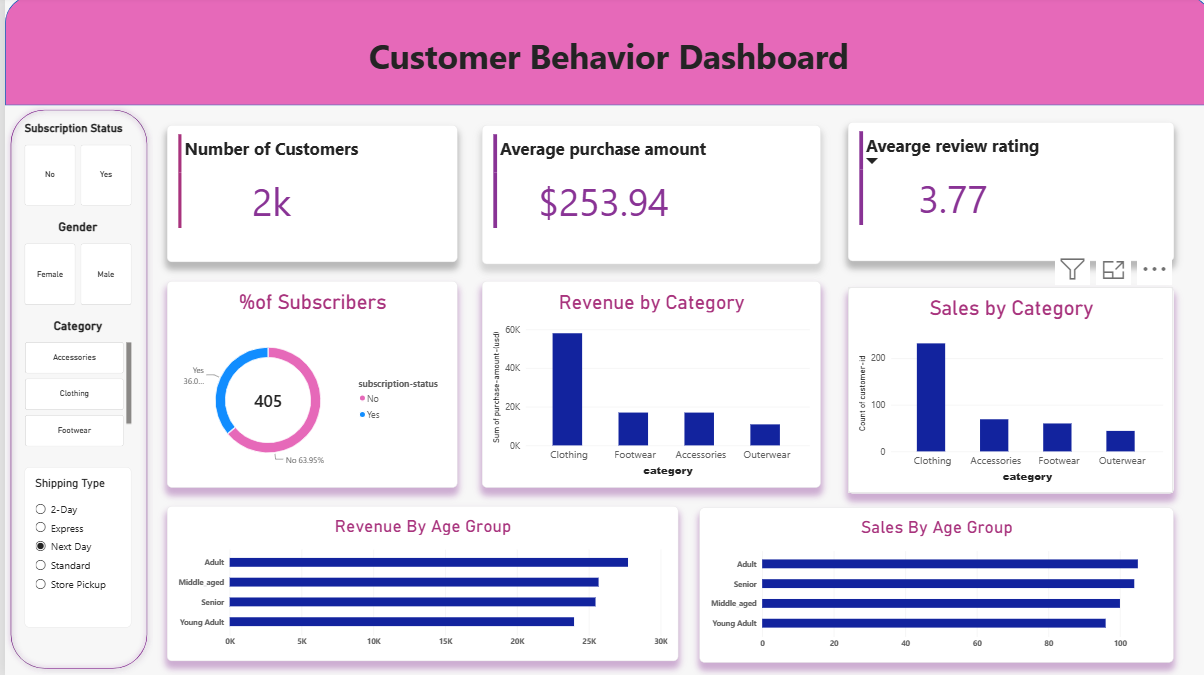

Layout of this report page (visuals, bound fields, positions):
{"tool":"powerbi","page":{"name":"Page 1","canvas":[1920,1080],"ordinal":0},"visuals":[{"type":"tableEx","fields":{"Values":["customer_behaviour customer.Avearge review rating"]},"box":[1340.8,201.3,518.7,221.1],"z":0},{"type":"tableEx","fields":{"Values":["customer_behaviour customer.Average purchase amount"]},"box":[759.7,204.1,538.6,221.1],"z":1000},{"type":"tableEx","fields":{"Values":["customer_behaviour customer.Number of Customers"]},"box":[258,204.1,462.1,218.3],"z":2000},{"type":"shape","box":[0,0,1920.7,174.2],"z":3000},{"type":"donutChart","title":"%of Subscribers","fields":{"Category":["customer_behaviour customer.subscription-status"],"Y":["Count(customer_behaviour customer.customer-id)"]},"box":[258,453.5,462.1,328.8],"z":4000},{"type":"clusteredColumnChart","title":"Revenue by Category","fields":{"Category":["customer_behaviour customer.category"],"Y":["Sum(customer_behaviour customer.purchase-amount-(usd))"]},"box":[759.7,453.5,538.6,328.8],"z":5000},{"type":"clusteredColumnChart","title":"Sales by Category","fields":{"Category":["customer_behaviour customer.category"],"Y":["CountNonNull(customer_behaviour customer.customer-id)"]},"box":[1340.8,462.1,518.7,328.8],"z":6000},{"type":"shape","box":[0,172.9,235.3,907.1],"z":7000},{"type":"advancedSlicerVisual","fields":{"Values":["customer_behaviour customer.subscription-status"]},"box":[31.2,201.3,170.1,133.2],"z":8000},{"type":"advancedSlicerVisual","title":"Gender","fields":{"Values":["customer_behaviour customer.gender"]},"box":[31.2,354.3,170.1,136.1],"z":9000},{"type":"advancedSlicerVisual","title":"Category","fields":{"Values":["customer_behaviour customer.category"]},"box":[31.2,513.1,170.1,206.9],"z":10000},{"type":"listSlicer","fields":{"Values":["customer_behaviour customer.shipping-type"]},"box":[31.2,748.4,170.1,255.1],"z":11000},{"type":"clusteredBarChart","title":"Revenue By Age Group","fields":{"Category":["customer_behaviour customer.age_group"],"Y":["Sum(customer_behaviour customer.purchase-amount-(usd))"]},"box":[258,810.7,813.5,246.6],"z":12000},{"type":"clusteredBarChart","title":"Sales By Age Group","fields":{"Category":["customer_behaviour customer.age_group"],"Y":["CountNonNull(customer_behaviour customer.customer-id)"]},"box":[1105.5,813.5,754,246.6],"z":13000}]}

Visuals, with their boxes in screenshot pixels (x1, y1, x2, y2), scaled from the page's 1920x1080 canvas onto the 1204x675 screenshot:
tableEx - customer_behaviour customer.Avearge review rating: BBox(841, 126, 1166, 264)
tableEx - customer_behaviour customer.Average purchase amount: BBox(476, 128, 814, 266)
tableEx - customer_behaviour customer.Number of Customers: BBox(162, 128, 452, 264)
shape: BBox(0, 0, 1203, 109)
"%of Subscribers" donutChart: BBox(162, 283, 452, 489)
"Revenue by Category" clusteredColumnChart: BBox(476, 283, 814, 489)
"Sales by Category" clusteredColumnChart: BBox(841, 289, 1166, 494)
shape: BBox(0, 108, 148, 674)
advancedSlicerVisual - customer_behaviour customer.subscription-status: BBox(20, 126, 126, 209)
"Gender" advancedSlicerVisual: BBox(20, 221, 126, 306)
"Category" advancedSlicerVisual: BBox(20, 321, 126, 450)
listSlicer - customer_behaviour customer.shipping-type: BBox(20, 468, 126, 627)
"Revenue By Age Group" clusteredBarChart: BBox(162, 507, 672, 661)
"Sales By Age Group" clusteredBarChart: BBox(693, 508, 1166, 663)
